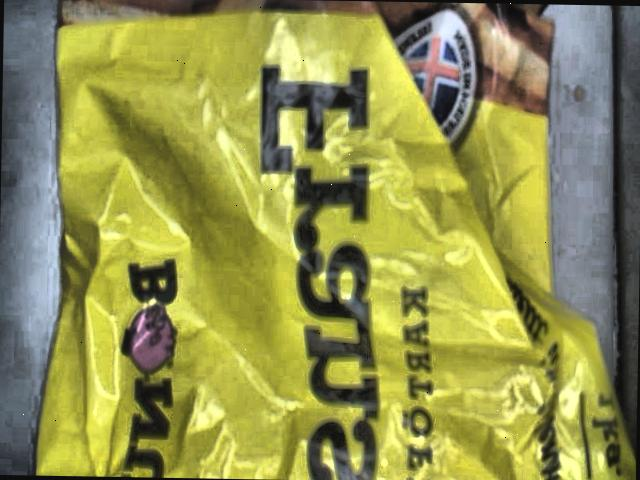Plastic: (33, 0, 636, 480)
